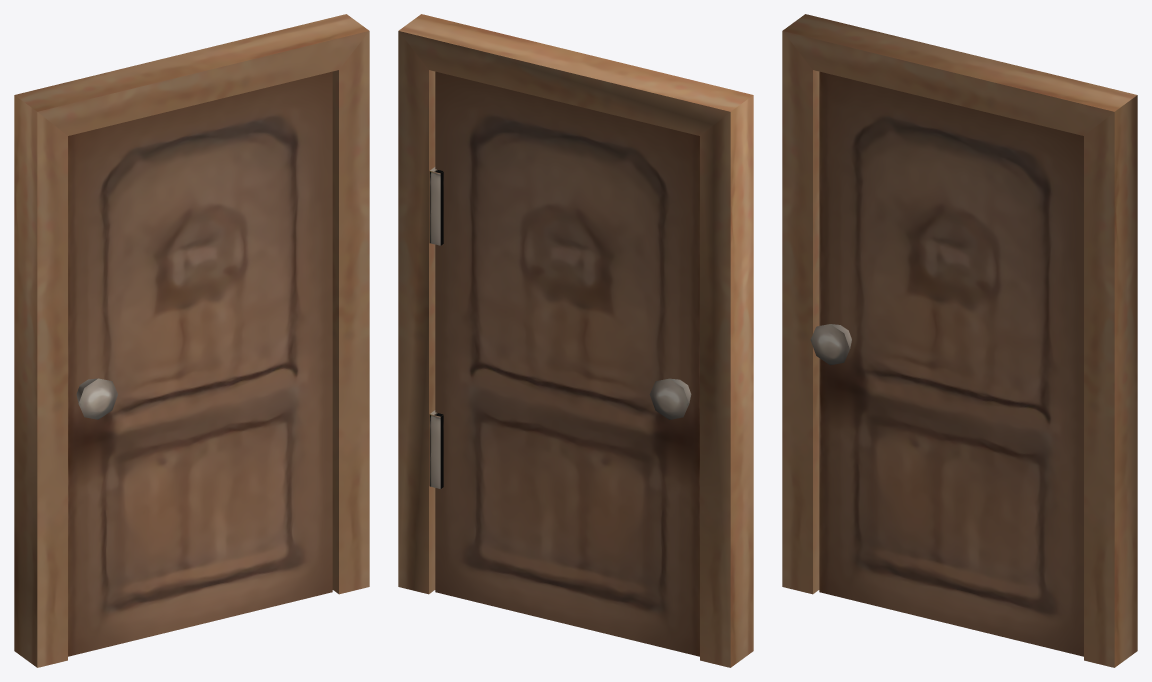
Rendered from Private Dwelling Door 2_HD.fbx.
3 renders of one model, left to right at view 1: azimuth 30°, elevation 25°; view 2: azimuth 150°, elevation 25°; view 3: azimuth 330°, elevation 25°, orthographic.
Visible parts, largest first — view 1: door, flame; view 2: door, flame; view 3: door, flame.
Part boxes in pixels (x1,y1,x2,y2): door: (68,71,332,656); flame: (14,14,369,667); door: (435,71,699,656); flame: (398,14,753,667); door: (810,71,1083,656); flame: (782,14,1137,667).
Size of the model in its own units: 1 by 1.6 by 0.2106.
